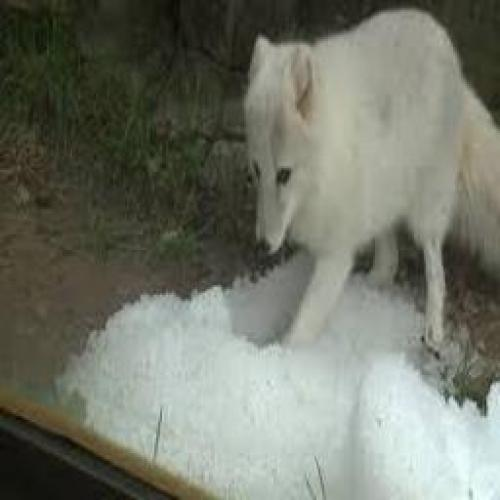arctic_fox-endangered: (244, 8, 482, 362)
